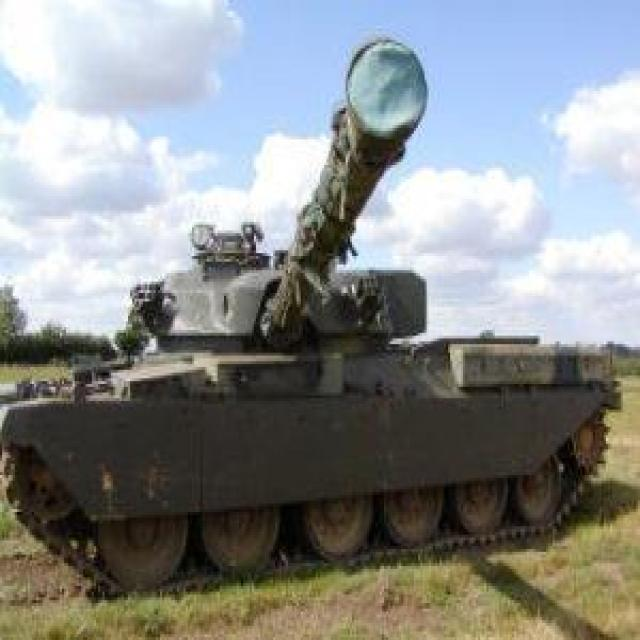Tanks: (13, 100, 625, 558)
